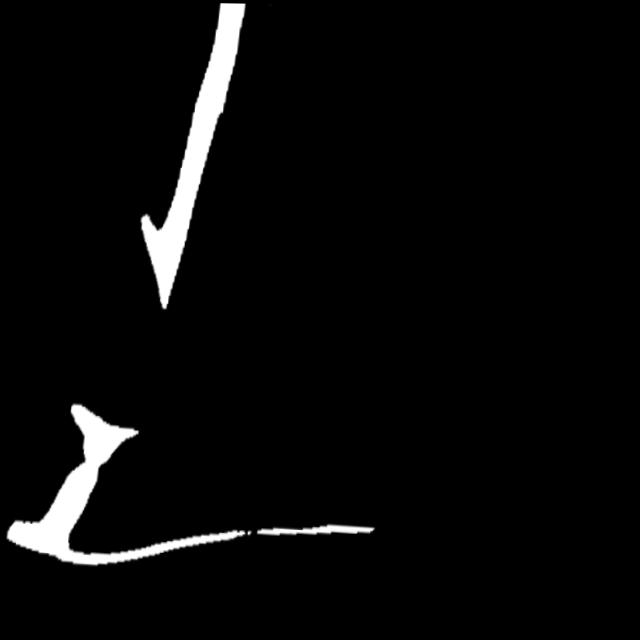inf: (241, 519, 278, 546)
